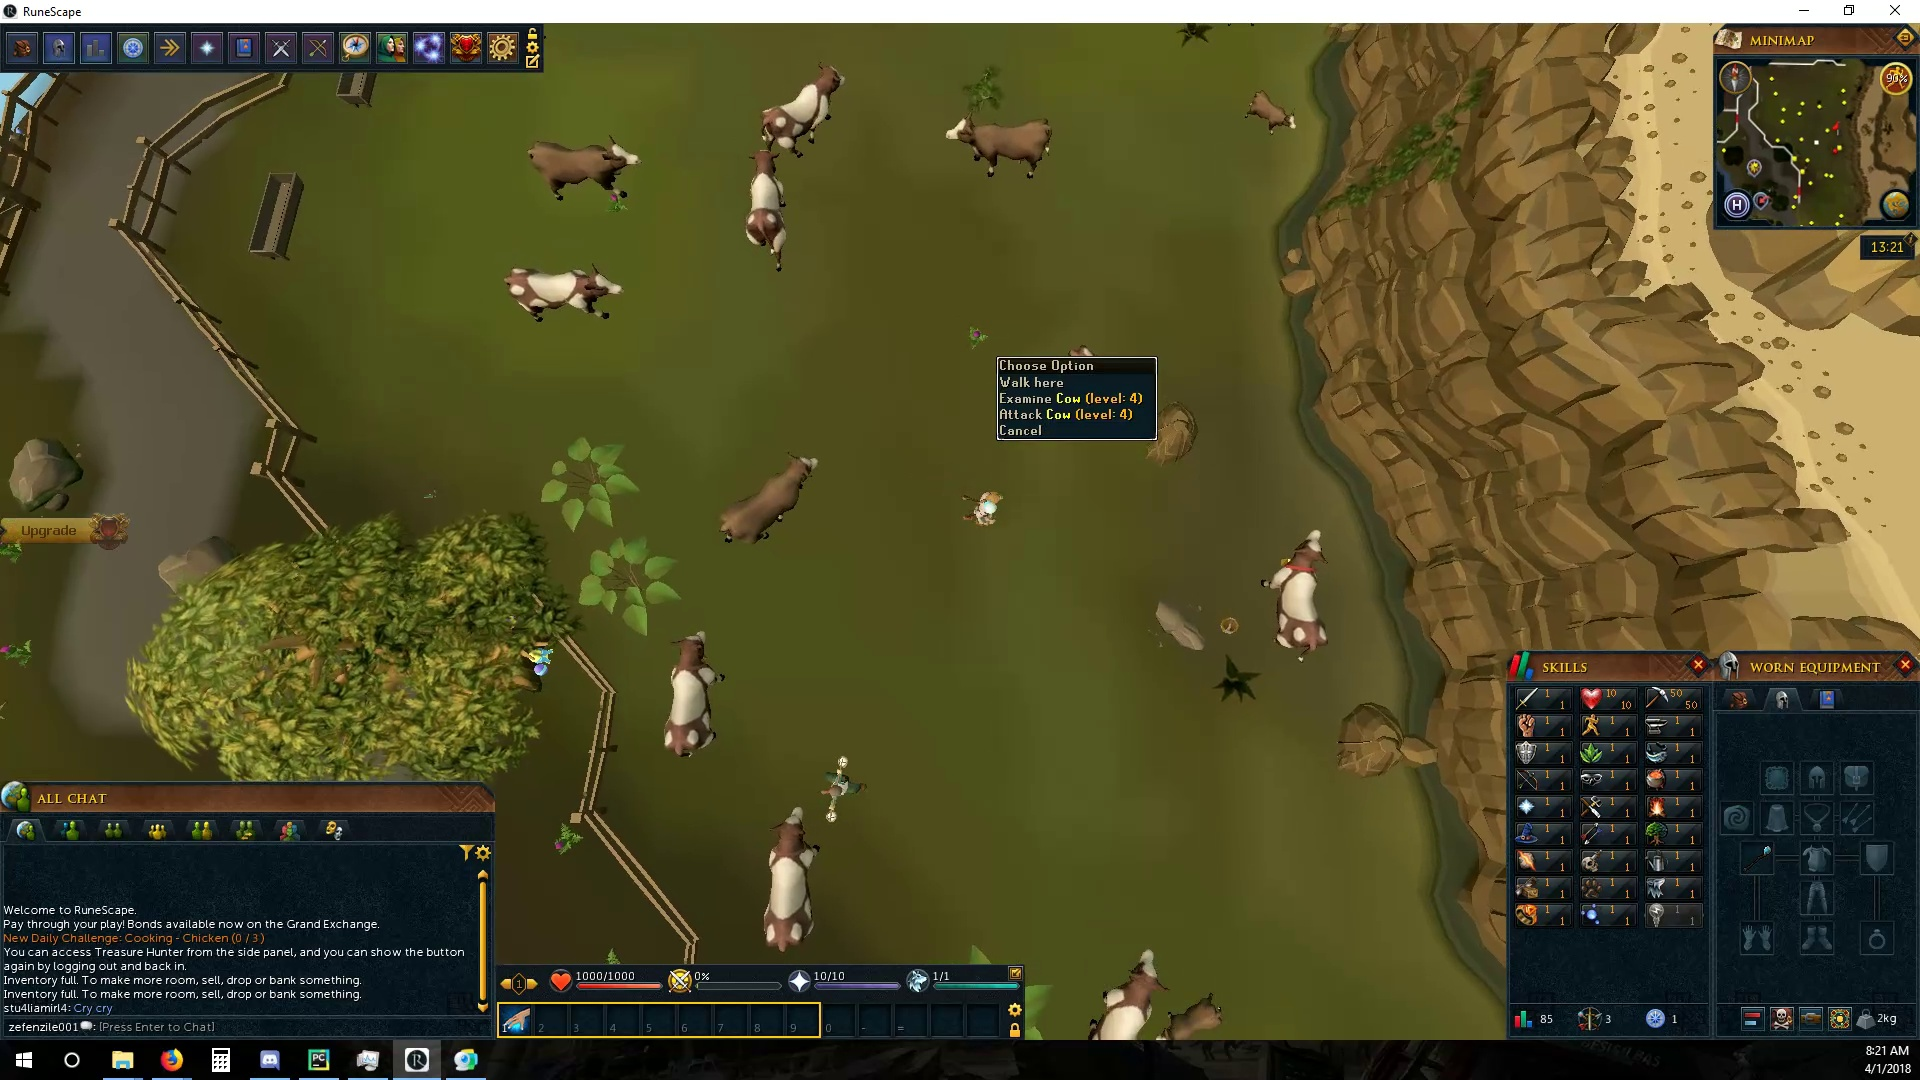calf: (1158, 990, 1234, 1040), (1245, 91, 1302, 140)
cow: (712, 454, 824, 547), (1258, 527, 1331, 663), (760, 802, 824, 953), (661, 628, 728, 760), (758, 61, 844, 164), (940, 105, 1056, 179), (1079, 949, 1170, 1042), (522, 136, 644, 204), (502, 260, 622, 324), (742, 149, 795, 276)
